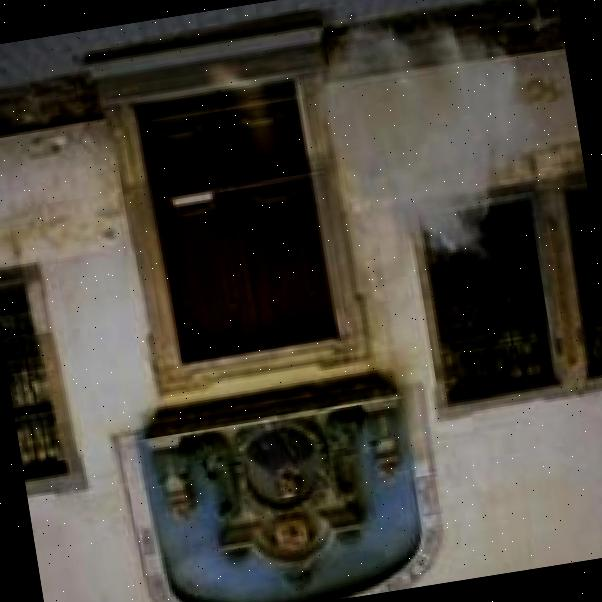smoke: (301, 0, 565, 292)
